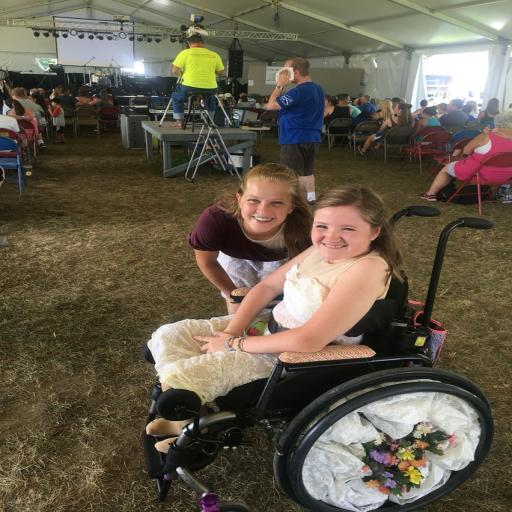crosswalk: (267, 54, 324, 208), (166, 33, 231, 128)
road: (141, 202, 504, 512)
